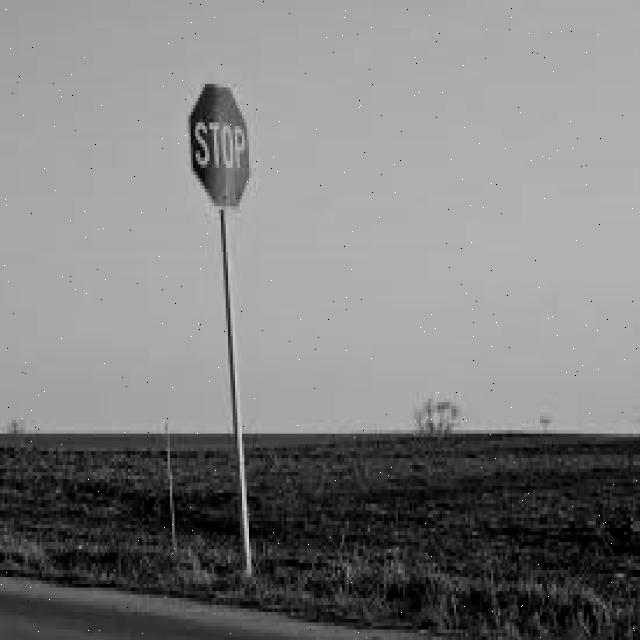stop sign: (184, 77, 255, 212)
